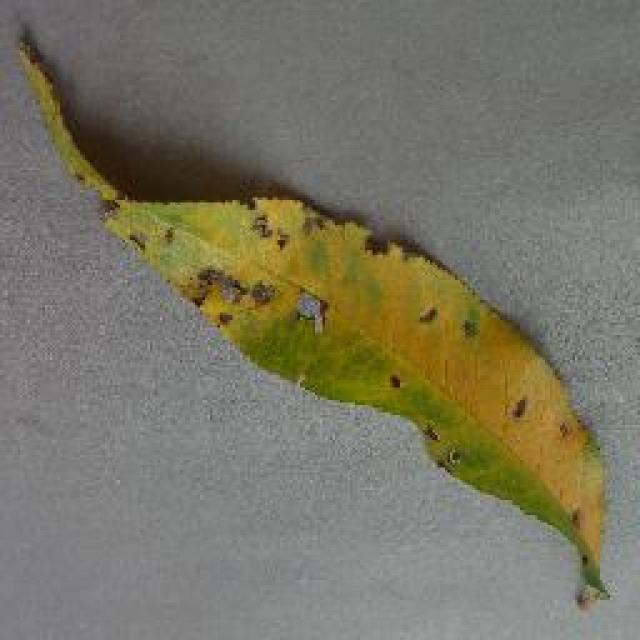Peach_Bacterial_Spot: (147, 176, 500, 422)
